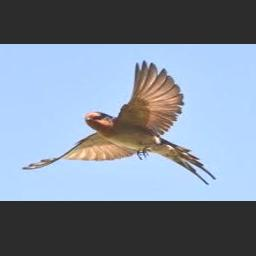Swallow: (21, 61, 216, 186)
